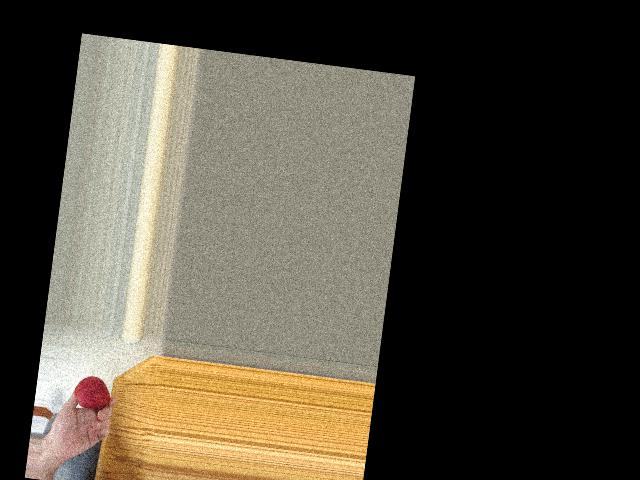apple: (69, 372, 112, 415)
